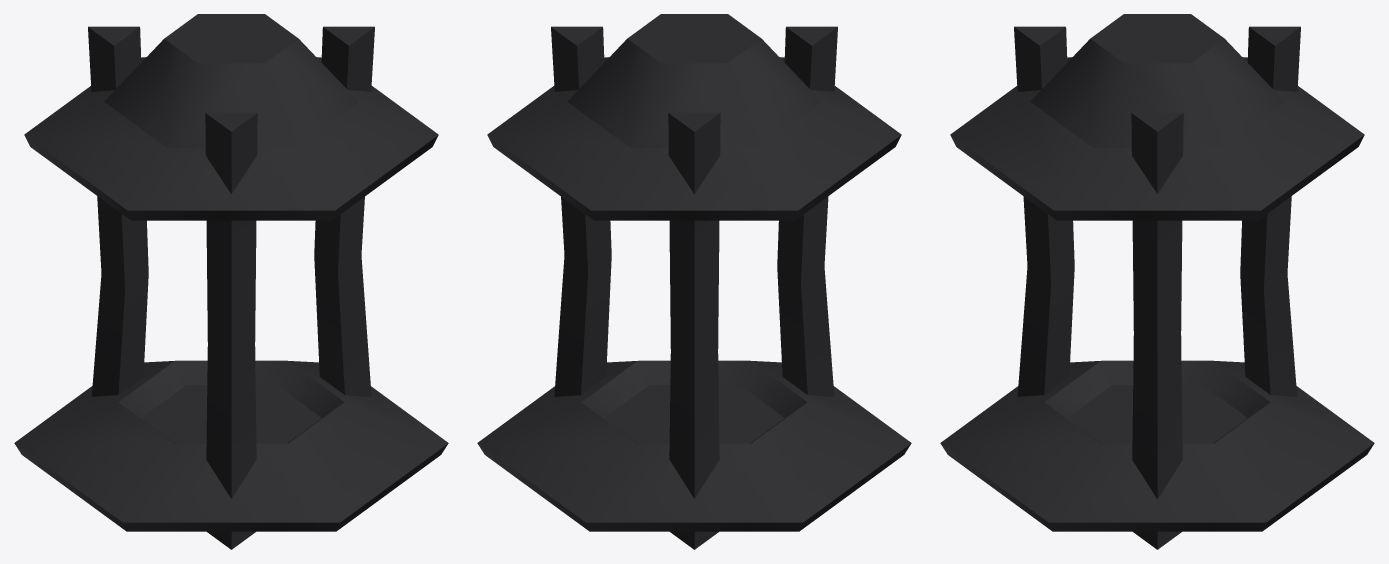
Rendered from Lantern.fbx.
The picture shows the model from 3 angles, left to right: view 1: azimuth 30°, elevation 25°; view 2: azimuth 150°, elevation 25°; view 3: azimuth 270°, elevation 25°; orthographic projection.
Parts seen in each view (by area): view 1: Lantern; view 2: Lantern; view 3: Lantern.
Boxes of the visible parts, x1=… form: Lantern: x1=14, y1=14, x2=448, y2=549; Lantern: x1=477, y1=14, x2=911, y2=549; Lantern: x1=940, y1=14, x2=1374, y2=549.
Bounding box in the file's own units: 0.4993 × 0.5766 × 0.646.
